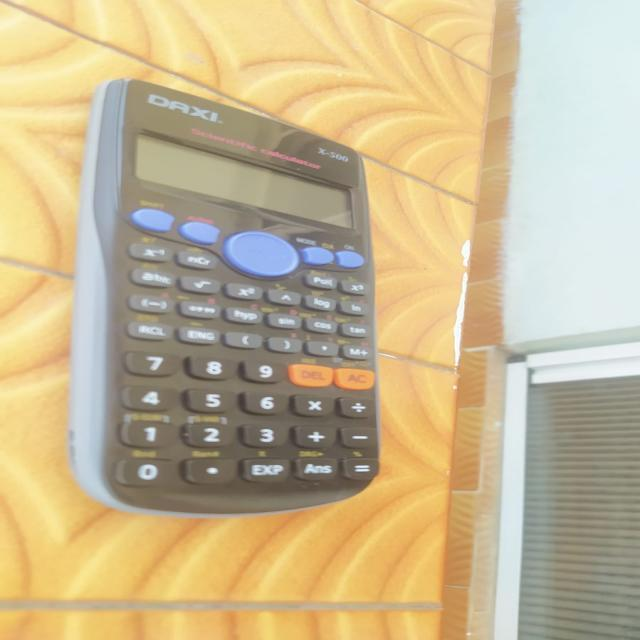Calculator: (88, 77, 384, 514)
